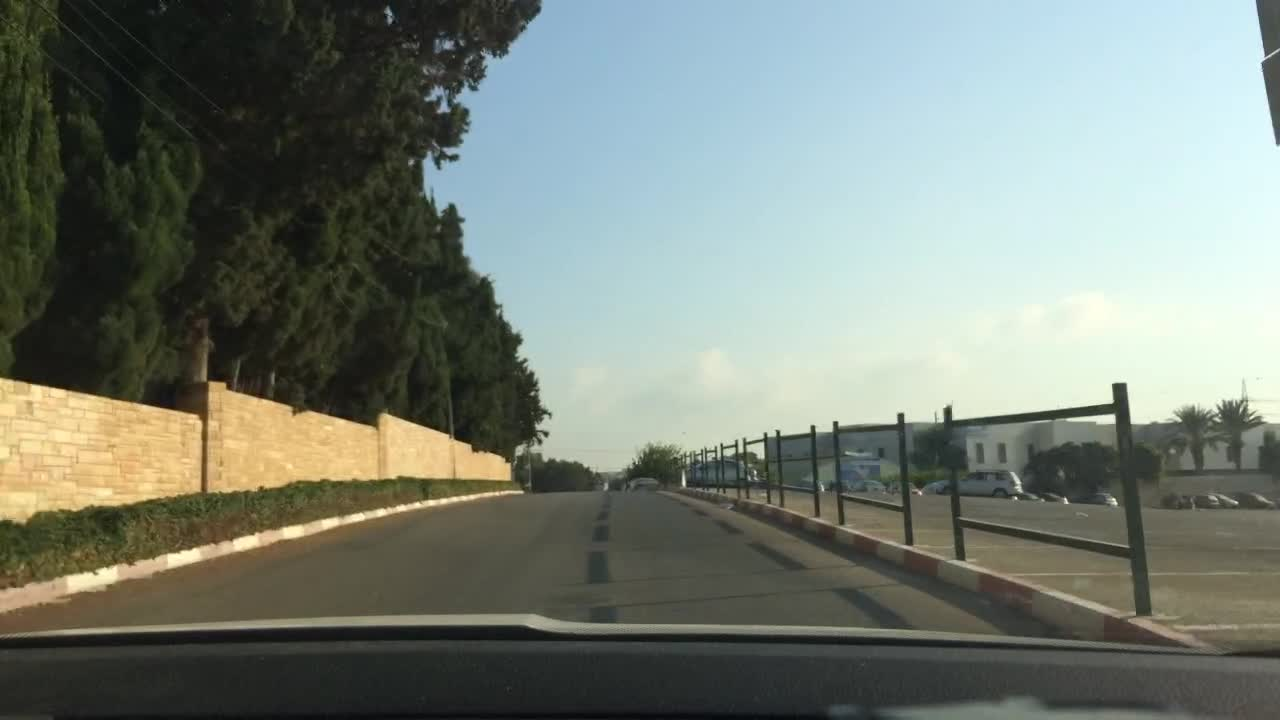car: (938, 466, 1018, 496), (687, 454, 754, 488), (1236, 487, 1278, 508), (917, 479, 952, 497), (1013, 484, 1043, 504), (623, 473, 662, 488), (1076, 491, 1117, 504), (1162, 489, 1190, 508), (1039, 486, 1072, 502), (887, 478, 914, 495), (1212, 489, 1236, 507), (1191, 490, 1219, 505), (827, 476, 849, 490), (858, 476, 882, 488)
